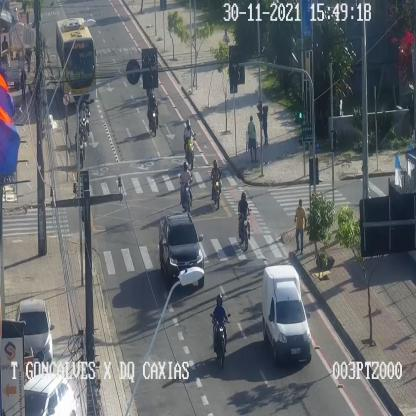bus: (56, 18, 96, 102)
car: (262, 265, 311, 361), (158, 214, 204, 286), (16, 300, 52, 370), (24, 374, 76, 416)
motorbike: (211, 294, 230, 368), (238, 192, 250, 249), (183, 118, 196, 169), (180, 161, 192, 213), (210, 158, 222, 208), (147, 90, 158, 136), (75, 123, 86, 168), (78, 102, 90, 142)
person: (294, 198, 306, 254), (247, 115, 256, 162), (262, 106, 268, 144), (222, 30, 229, 60), (20, 70, 26, 100), (26, 48, 32, 72)
